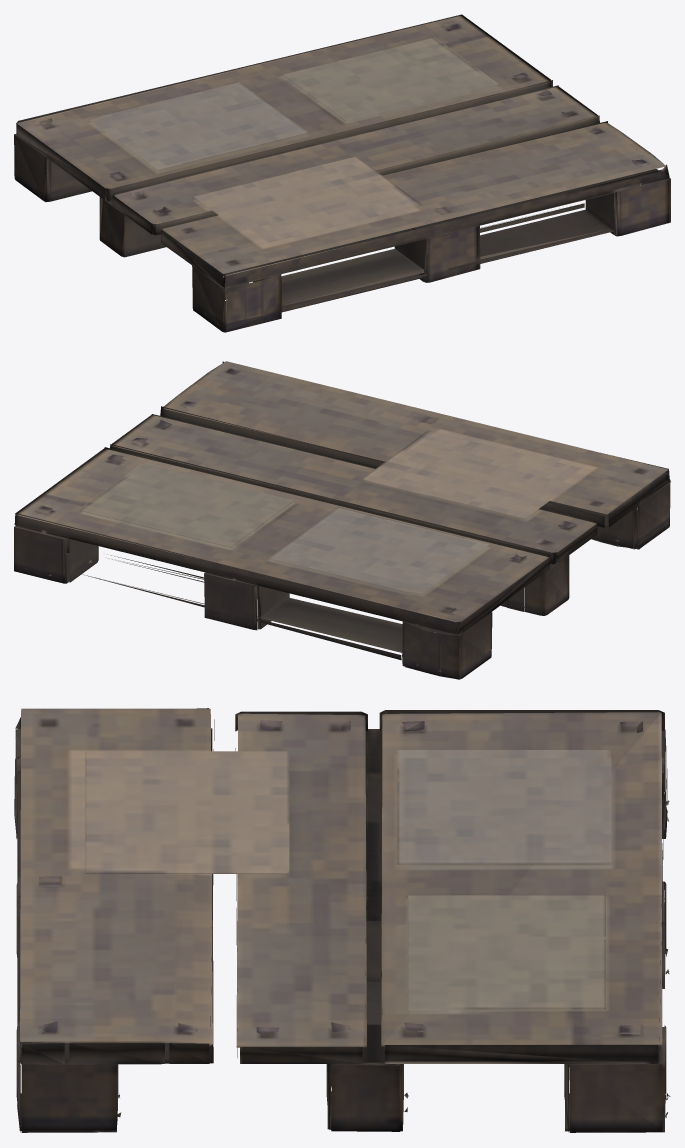
Rendered from PRP_LOADING_PALLET.fbx.
3 renders of one model, top to bottom at view 1: azimuth 30°, elevation 25°; view 2: azimuth 150°, elevation 25°; view 3: azimuth 270°, elevation 25°, orthographic. The views are drawn at different scales.
Parts seen in each view (by area): view 1: PRP_LOADING_PALLET_Body; view 2: PRP_LOADING_PALLET_Body; view 3: PRP_LOADING_PALLET_Body.
Part boxes in pixels (x1=…): PRP_LOADING_PALLET_Body: x1=14, y1=14, x2=670, y2=332; PRP_LOADING_PALLET_Body: x1=14, y1=361, x2=670, y2=679; PRP_LOADING_PALLET_Body: x1=14, y1=708, x2=670, y2=1132.
Bounding box in the file's own units: 110 × 14.23 × 90.4.
1 material, 1 textured.
